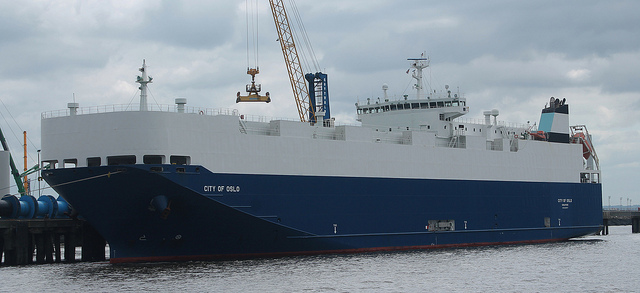PCC: (40, 52, 603, 260)
